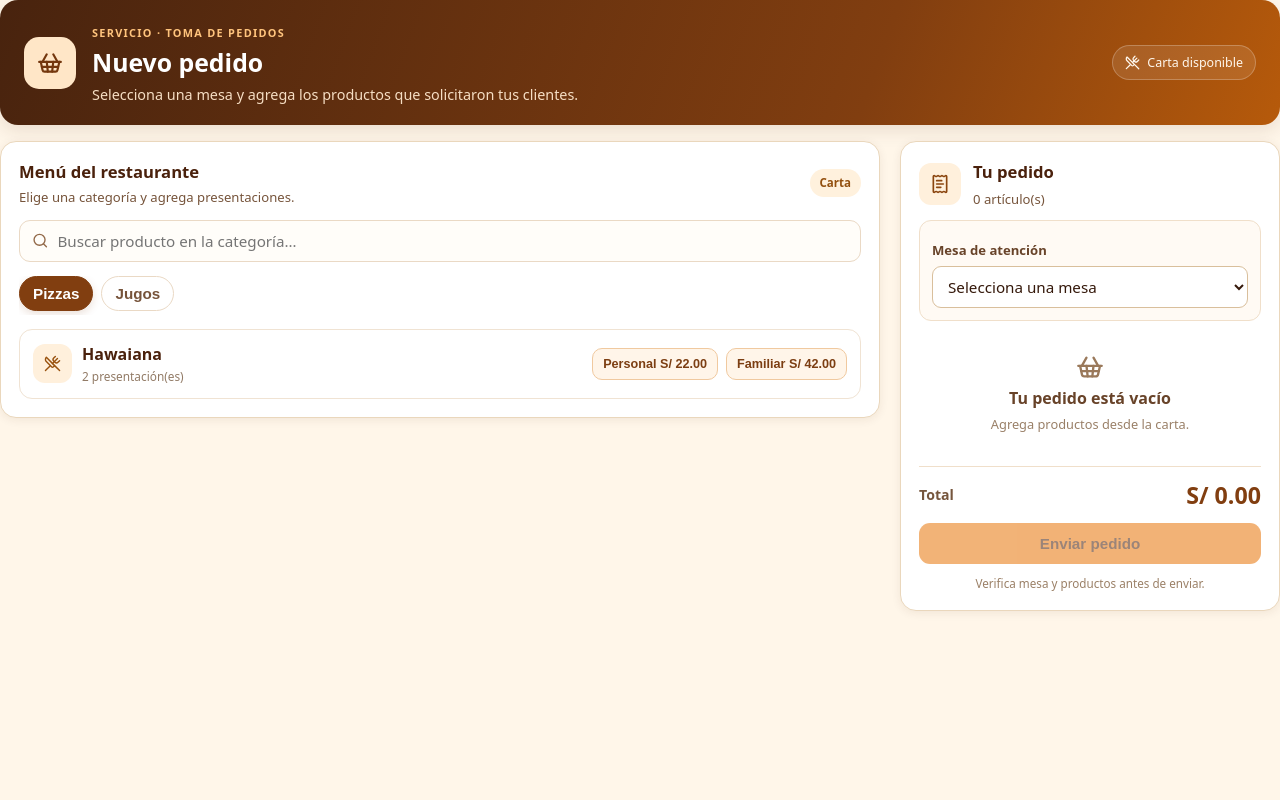
Scenario: Nuevo pedido (HU-007) › envía el pedido con la mesa seleccionada y muestra su código
Select "Mesa 01 — Disponible" in the dropdown labelled "Mesa": (1090, 287) [932, 266, 1248, 308]
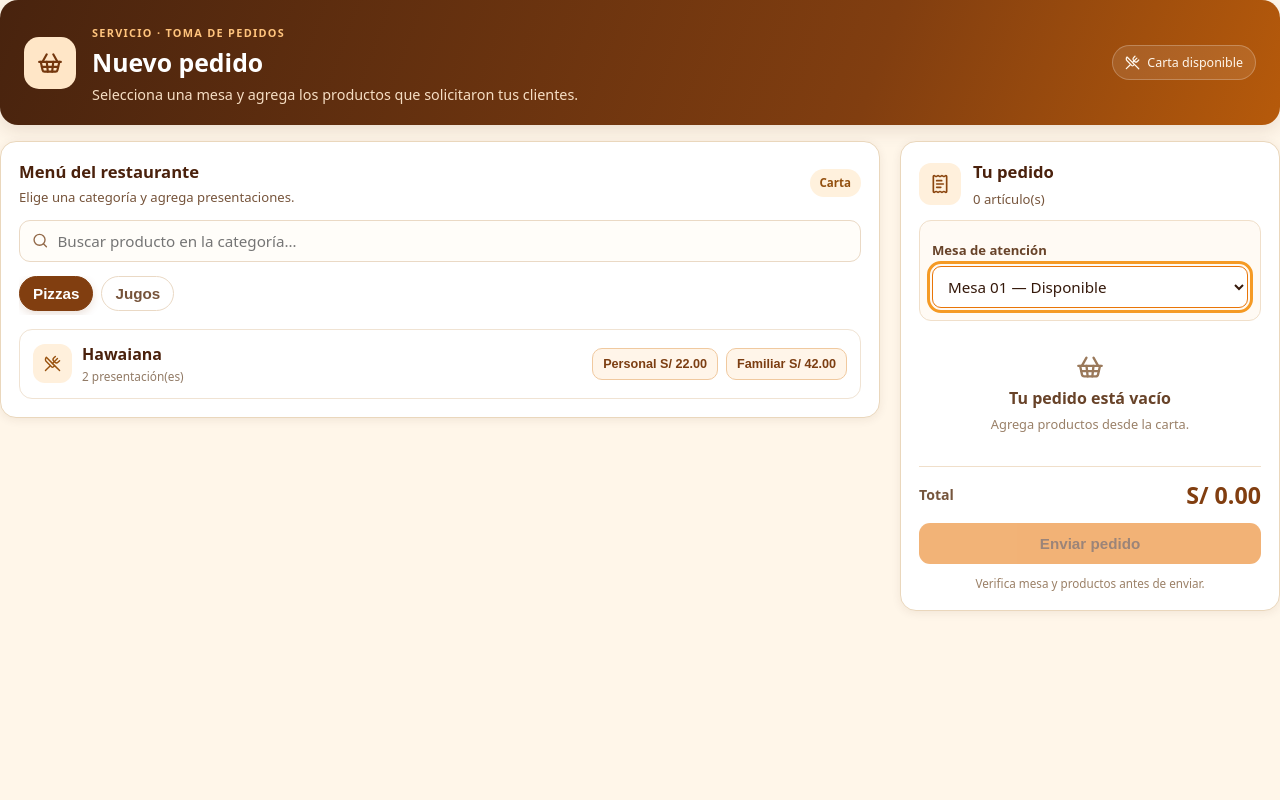
Click the button with aria-label "Agregar Hawaiana Personal": (655, 364) [592, 348, 718, 380]
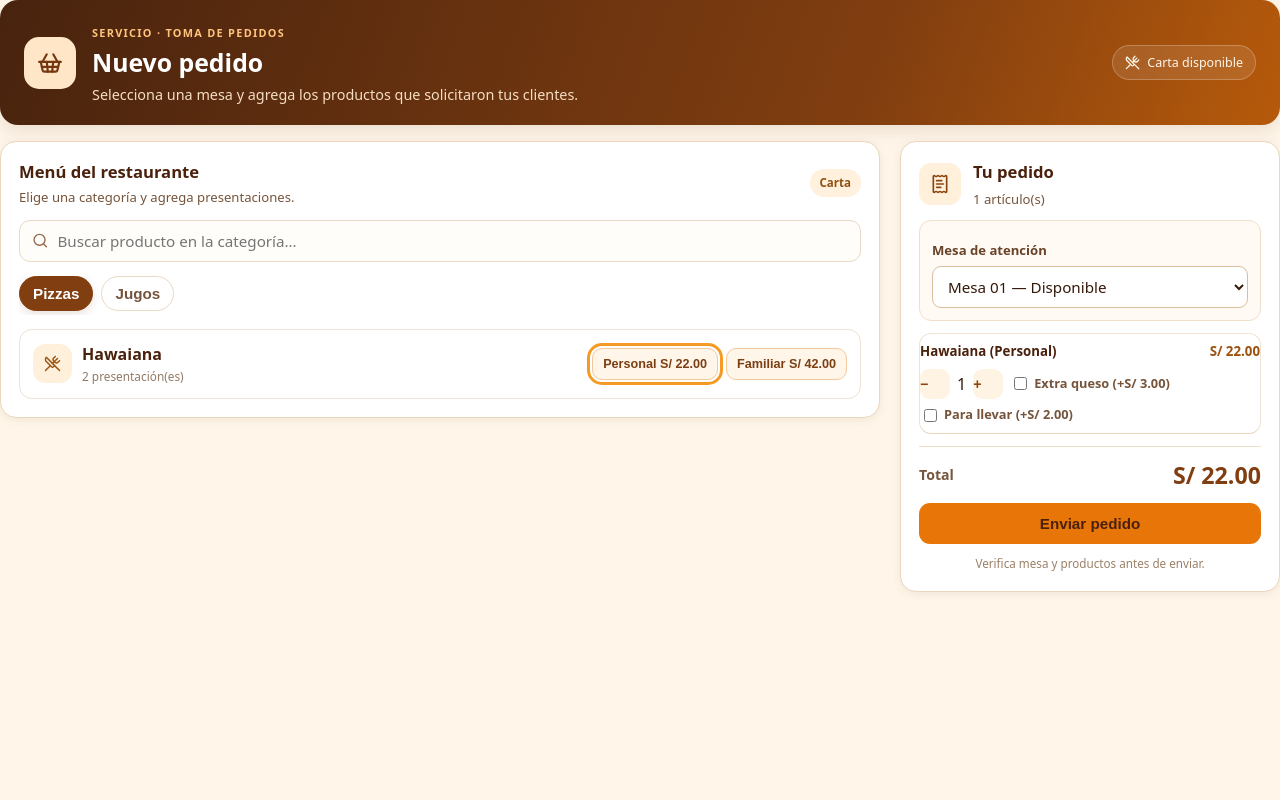
Click the button "Enviar pedido": (1090, 524) [919, 503, 1261, 544]
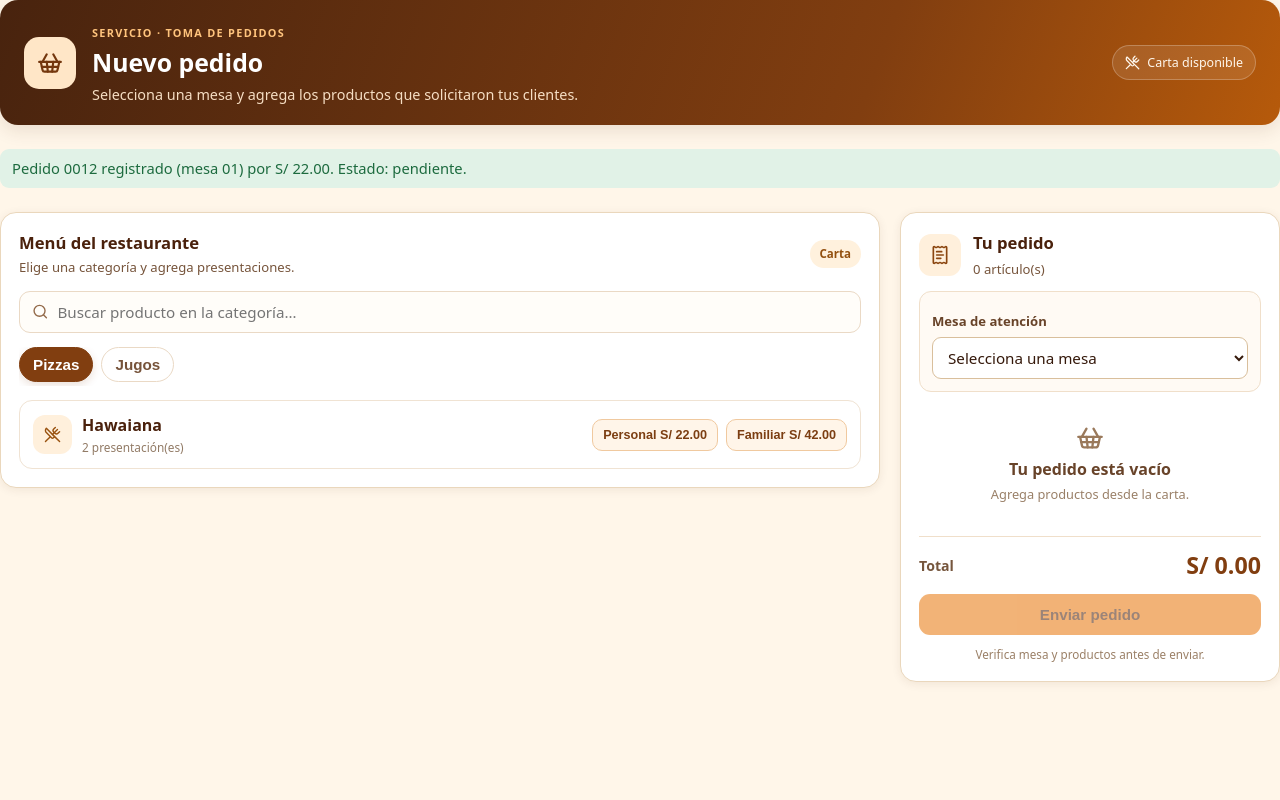
Result: the message shows "Pedido 0012 registrado" at [12, 158, 467, 178]
